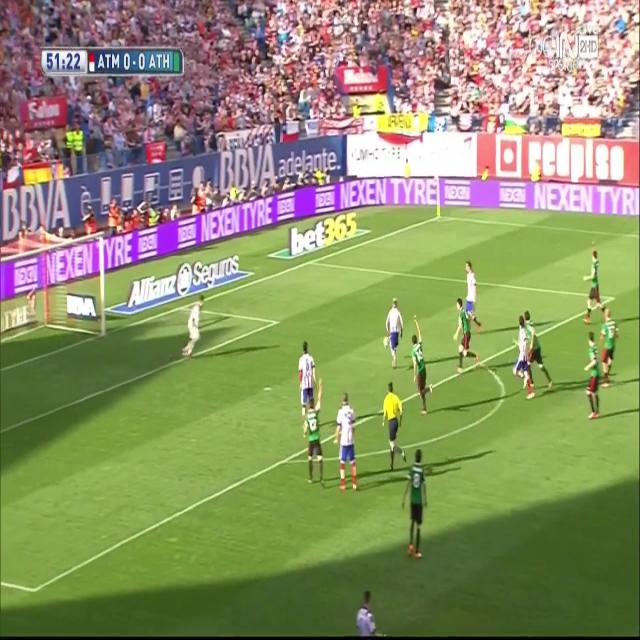Ball: (381, 334, 389, 350)
Goalkeeper: (181, 292, 204, 360)
Player: (399, 448, 430, 559), (332, 392, 361, 491), (409, 309, 435, 417), (302, 379, 326, 486), (452, 296, 482, 377), (524, 310, 554, 390), (512, 315, 536, 400), (581, 249, 605, 327), (297, 340, 318, 425), (584, 329, 602, 422), (601, 305, 619, 391), (355, 586, 382, 640), (386, 297, 405, 370), (463, 258, 482, 331)
Referee: (382, 379, 408, 474)
